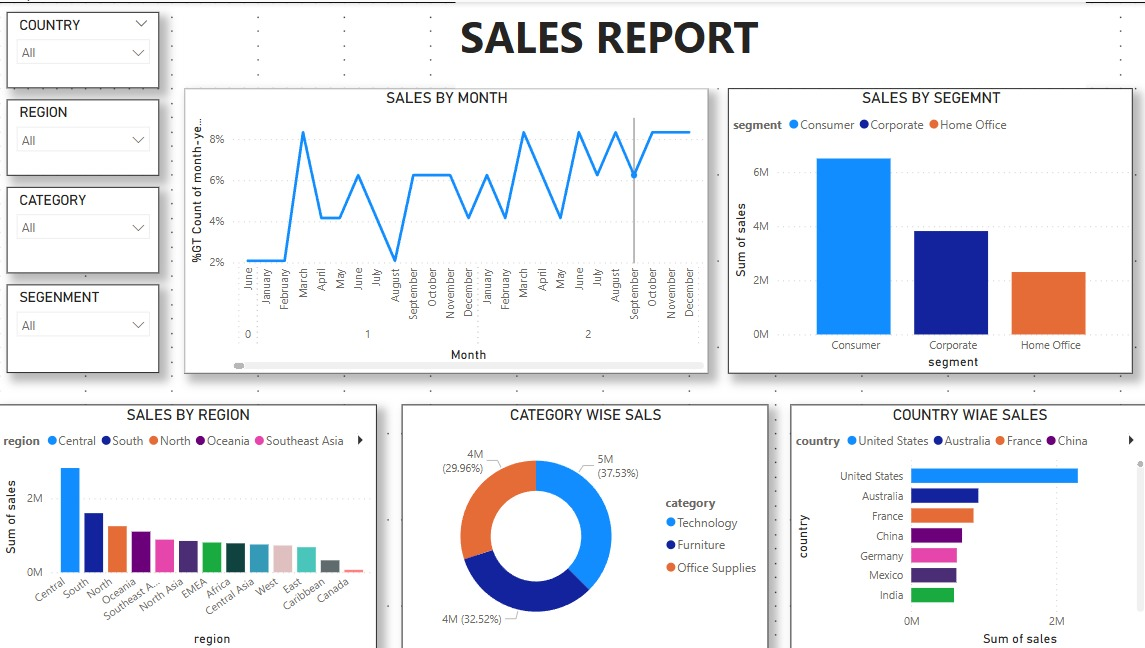

This screenshot's page, from the dashboard's own definition file:
{"tool":"powerbi","page":{"name":"Page 1","canvas":[1280,720],"ordinal":0},"visuals":[{"type":"lineChart","title":"SALES BY MONTH","fields":{"Category":["cleaned_sales_data.sales","cleaned_sales_data.month-year.Variation.Date Hierarchy.Month"],"Y":["CountNonNull(cleaned_sales_data.month-year)"]},"box":[207.3,96,583,317.2],"z":0},{"type":"columnChart","title":"SALES BY REGION","fields":{"Series":["cleaned_sales_data.region"],"Y":["Sum(cleaned_sales_data.sales)"],"Category":["cleaned_sales_data.region"]},"box":[0,448,421.6,272.7],"z":1000},{"type":"donutChart","title":"CATEGORY WISE SALS","fields":{"Category":["cleaned_sales_data.category"],"Y":["Sum(cleaned_sales_data.sales)"]},"box":[449.4,448,407.7,272.7],"z":2000},{"type":"barChart","title":"COUNTRY WIAE SALES","fields":{"Category":["cleaned_sales_data.country"],"Y":["Sum(cleaned_sales_data.sales)"],"Series":["cleaned_sales_data.country"]},"box":[882.1,448,397.9,272.7],"z":3000},{"type":"lineStackedColumnComboChart","title":"SALES BY SEGEMNT","fields":{"Category":["cleaned_sales_data.segment"],"Series":["cleaned_sales_data.segment"],"Y":["Sum(cleaned_sales_data.sales)"]},"box":[812.5,96,450.8,317.2],"z":4000},{"type":"textbox","box":[509.2,0,701.2,96],"z":5000},{"type":"slicer","fields":{"Values":["cleaned_sales_data.country"]},"box":[9.7,11.1,169.7,84.9],"z":6000},{"type":"slicer","fields":{"Values":["cleaned_sales_data.region"]},"box":[9.7,108.5,169.7,84.9],"z":7000},{"type":"slicer","fields":{"Values":["cleaned_sales_data.category"]},"box":[9.7,205.9,169.7,96],"z":7001},{"type":"slicer","fields":{"Values":["cleaned_sales_data.segment"]},"box":[9.7,314.4,169.7,98.8],"z":7002}]}

Visuals, with their boxes in screenshot pixels (x1, y1, x2, y2), scaled from the page's 1280x720 canvas onto the 1145x648 screenshot:
"SALES BY MONTH" lineChart: [185,86,707,372]
"SALES BY REGION" columnChart: [0,403,377,647]
"CATEGORY WISE SALS" donutChart: [402,403,767,647]
"COUNTRY WIAE SALES" barChart: [789,403,1144,647]
"SALES BY SEGEMNT" lineStackedColumnComboChart: [727,86,1130,372]
textbox: [455,0,1083,86]
slicer - cleaned_sales_data.country: [9,10,160,86]
slicer - cleaned_sales_data.region: [9,98,160,174]
slicer - cleaned_sales_data.category: [9,185,160,272]
slicer - cleaned_sales_data.segment: [9,283,160,372]
